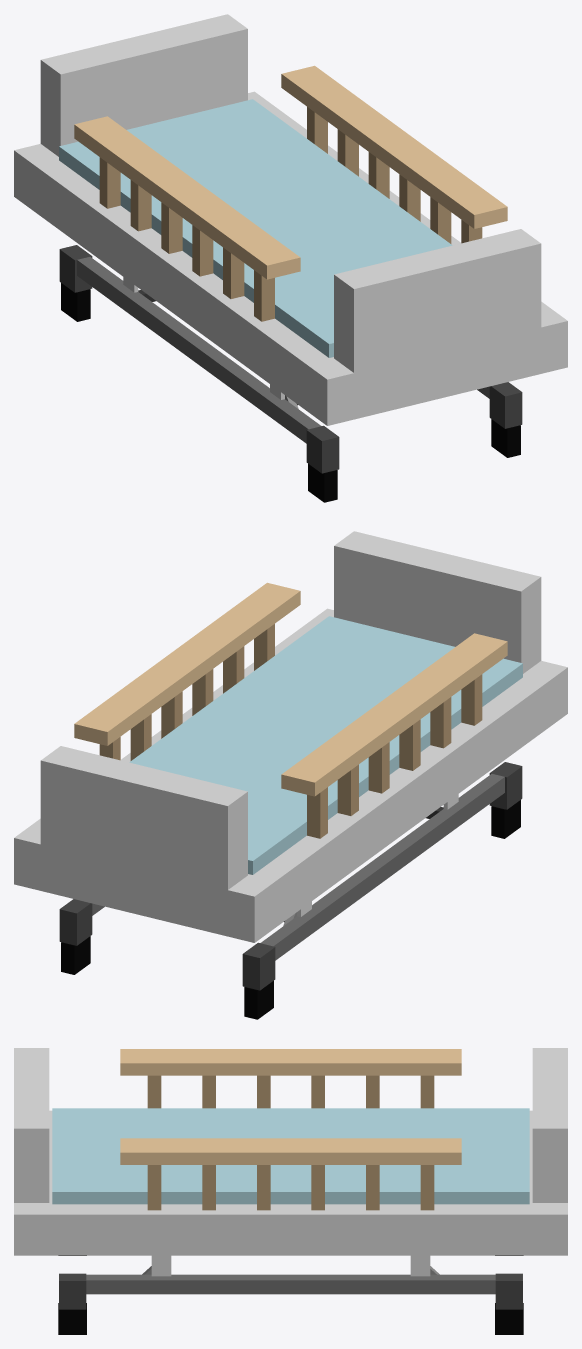
File: HospitalBed.fbx
3 renders of one model, top to bottom at view 1: azimuth 30°, elevation 25°; view 2: azimuth 150°, elevation 25°; view 3: azimuth 270°, elevation 25°, orthographic. The views are drawn at different scales.
Visible parts, largest first — view 1: HospitalBed; view 2: HospitalBed; view 3: HospitalBed.
Boxes of the visible parts, x1,y1,x2,y2 form: HospitalBed: [14, 14, 567, 502]; HospitalBed: [14, 531, 567, 1019]; HospitalBed: [14, 1048, 567, 1334].
Bounding box in the file's own units: 180 × 165 × 406.
